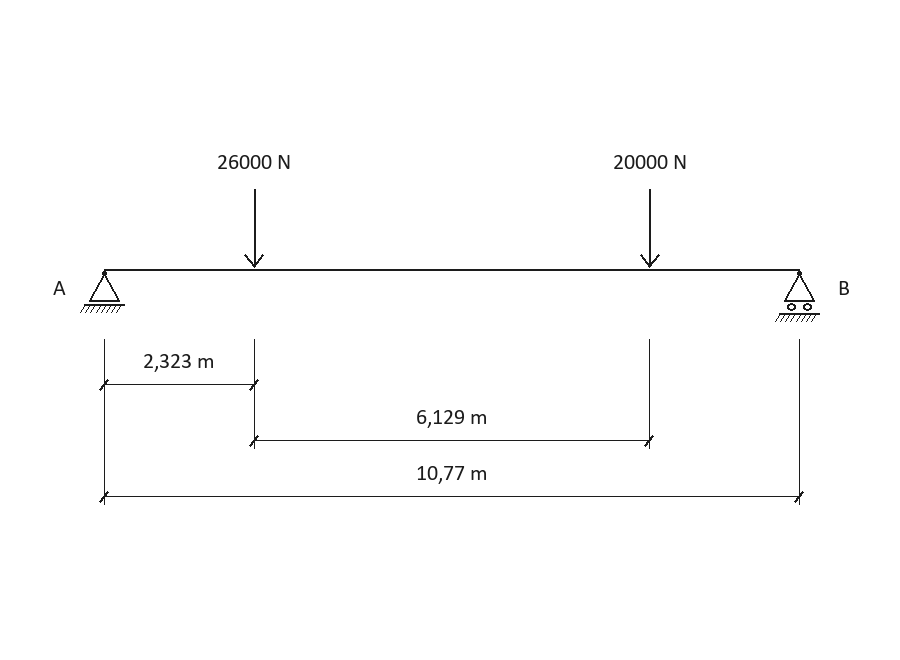pin_support: (80, 271, 125, 313)
point_load: (244, 189, 264, 268), (640, 189, 660, 268)
roller_support: (775, 271, 820, 322)
